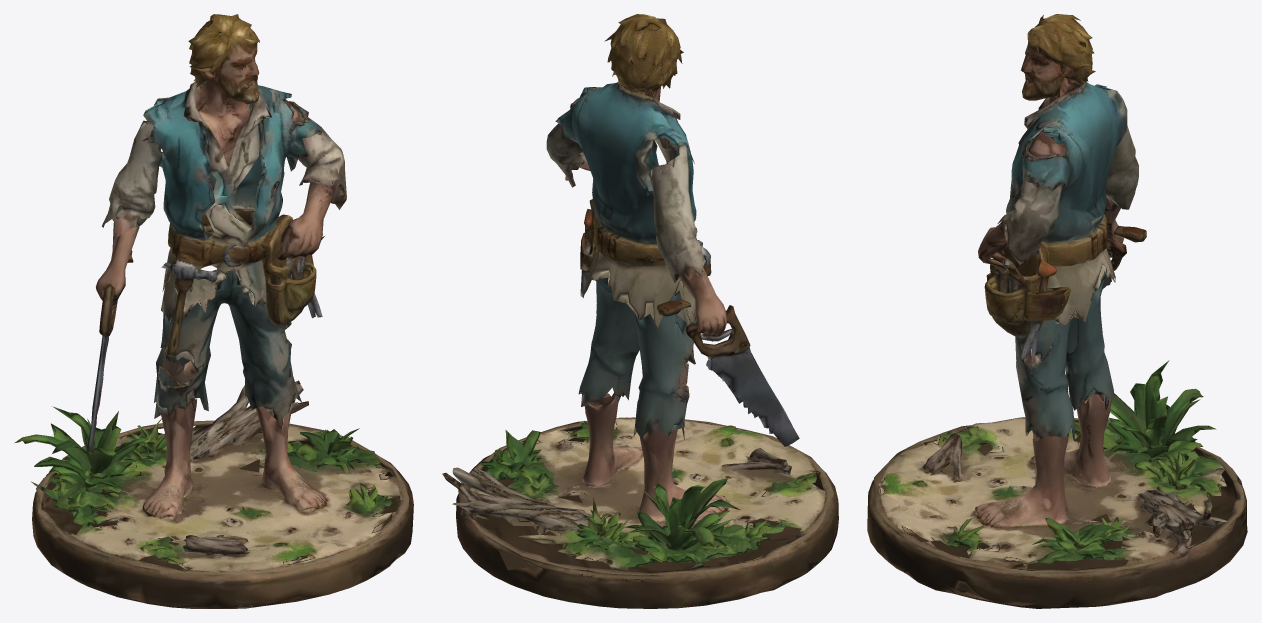
The model's file is sw-carpenter.glb.
The picture shows the model from 3 angles, left to right: view 1: azimuth 30°, elevation 25°; view 2: azimuth 150°, elevation 25°; view 3: azimuth 270°, elevation 25°; orthographic projection.
Parts seen in each view (by area): view 1: geometry_0; view 2: geometry_0; view 3: geometry_0.
Part boxes in pixels (box(x1,y1,x2,y2)): geometry_0: box(15, 14, 413, 608); geometry_0: box(442, 14, 838, 608); geometry_0: box(867, 14, 1247, 608).
Bounding box in the file's own units: 0.542 × 0.8024 × 0.5371.
1 material, 1 textured.
